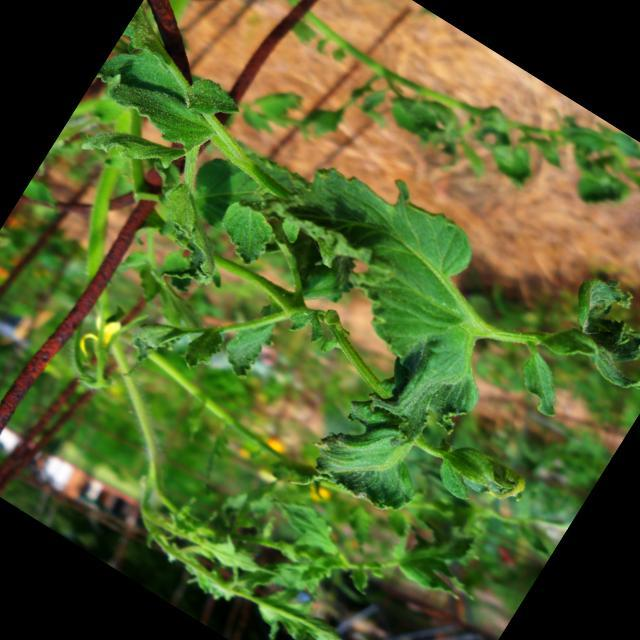Tomato mosaic virus leaf: (255, 147, 527, 391), (286, 386, 448, 546), (94, 26, 245, 164), (528, 252, 640, 420), (202, 193, 286, 273), (211, 304, 284, 390)
